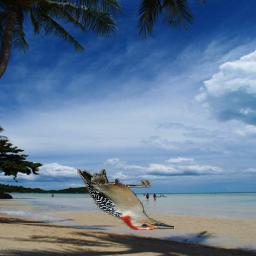Woodpecker: (78, 170, 175, 231)
